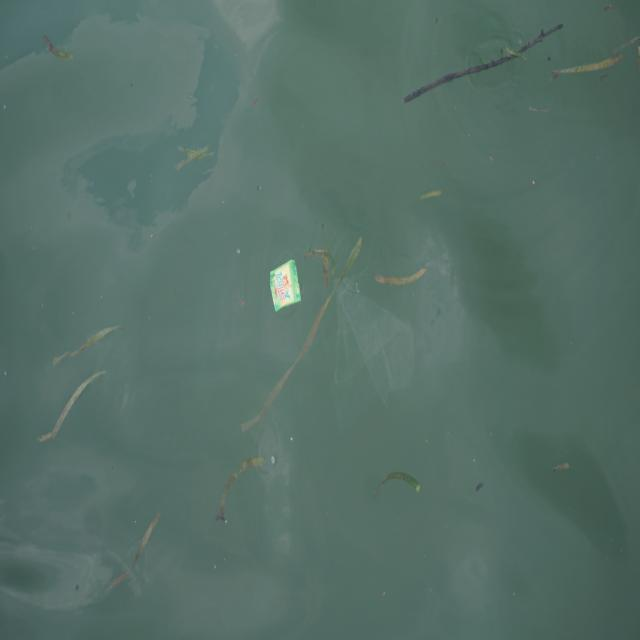Bungkus Minuman: (269, 257, 303, 315)
Kantong Plastik: (327, 268, 418, 426)
